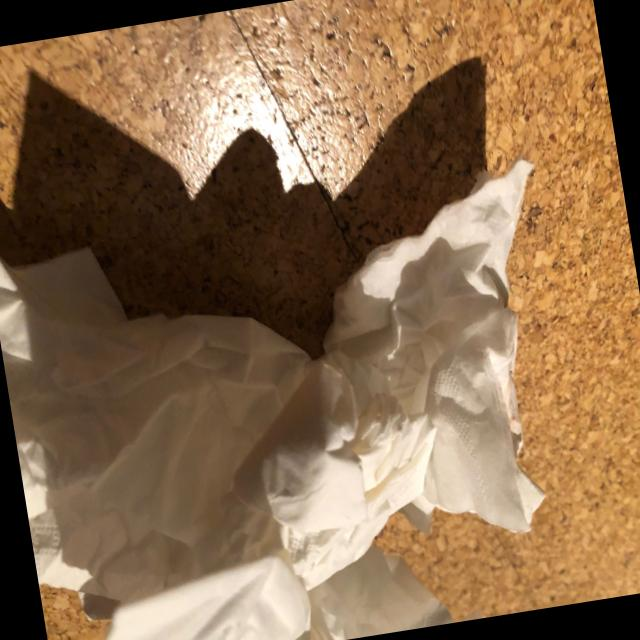organic waste: (0, 169, 450, 640)
